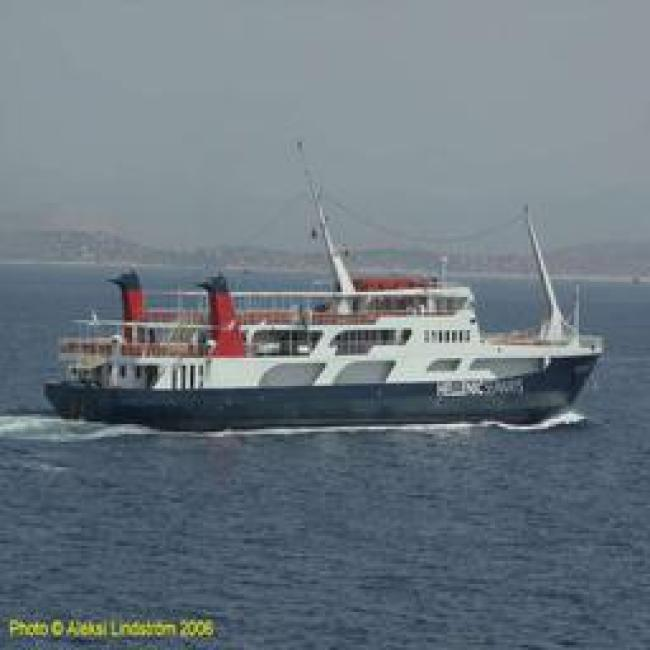Ship: (44, 283, 594, 431)
